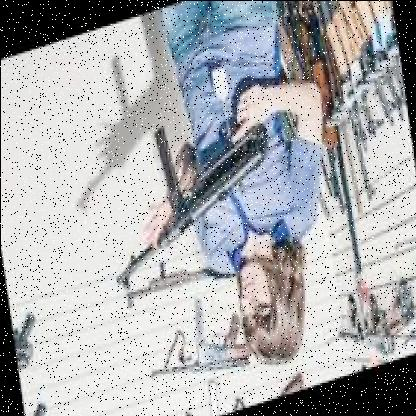rifle: (94, 94, 282, 298)
